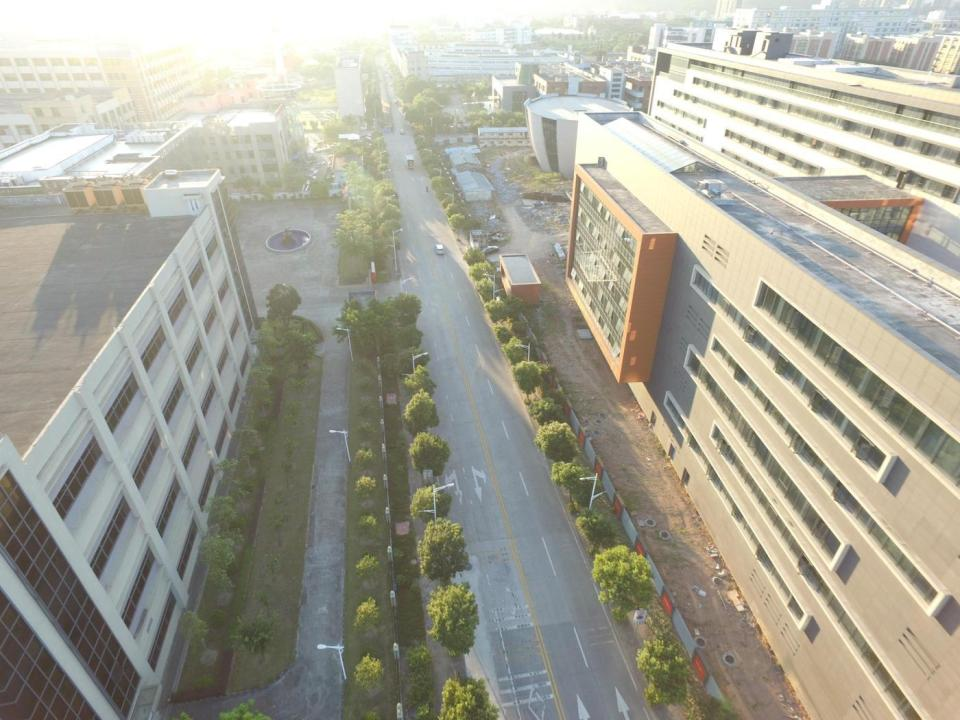car: (480, 246, 500, 257), (434, 243, 445, 256)
truck: (404, 154, 415, 170)
van: (399, 128, 405, 135)
